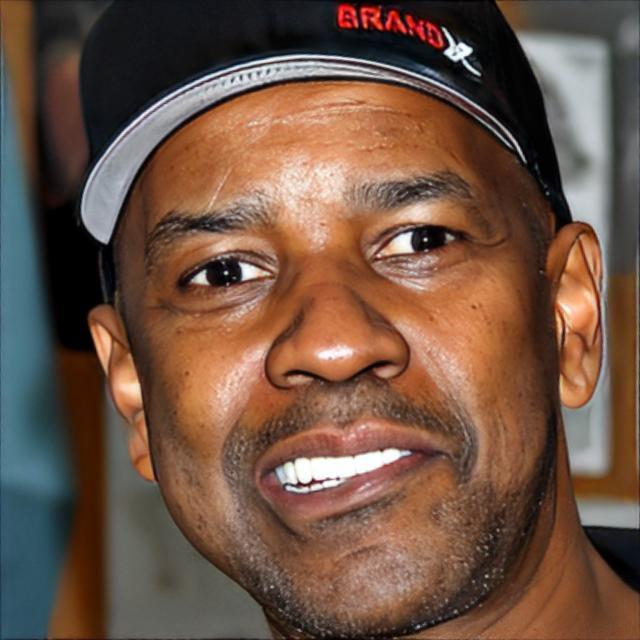content: (113, 75, 550, 640)
